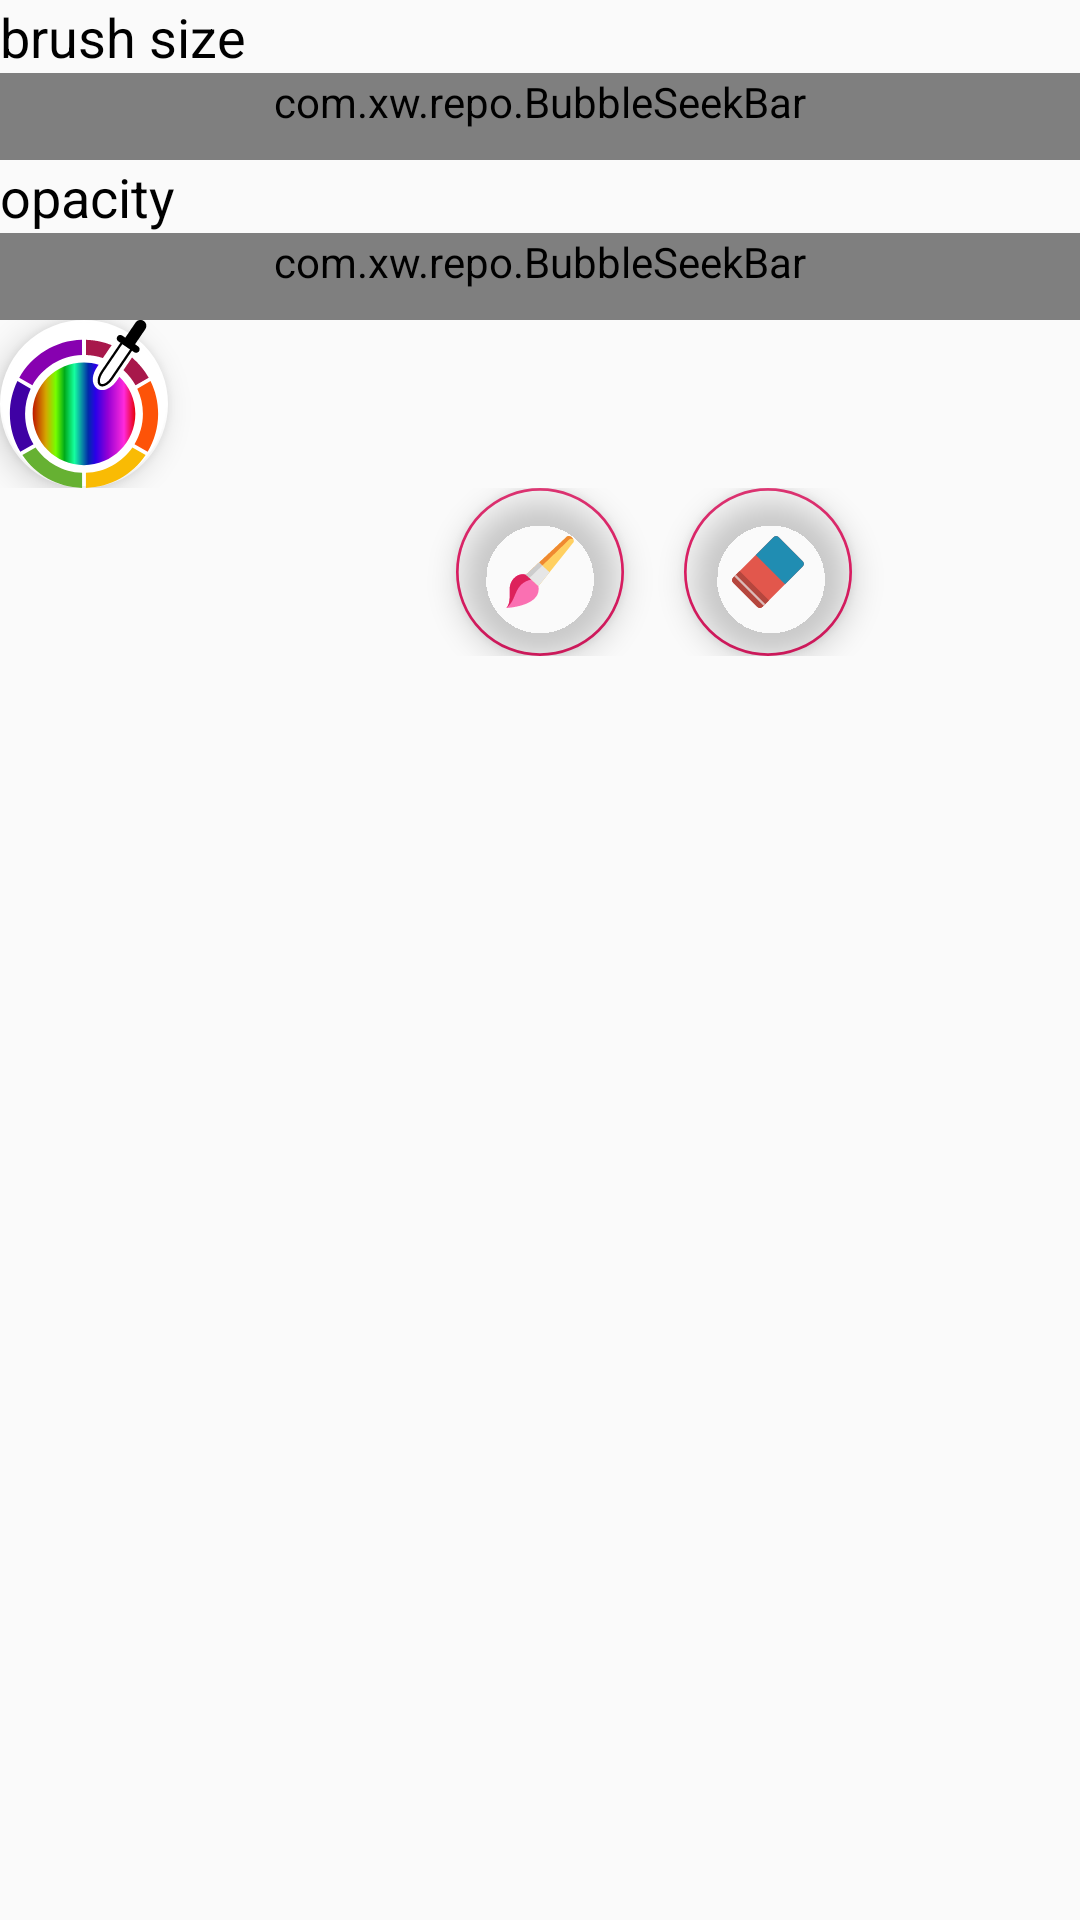

Named icons in this screenshot (1080 x 1920) and their bounding boxes, (x1, y1, x2, y2):
brush: (456, 488, 624, 656)
eraser: (684, 488, 852, 656)
picker: (0, 339, 158, 488)
